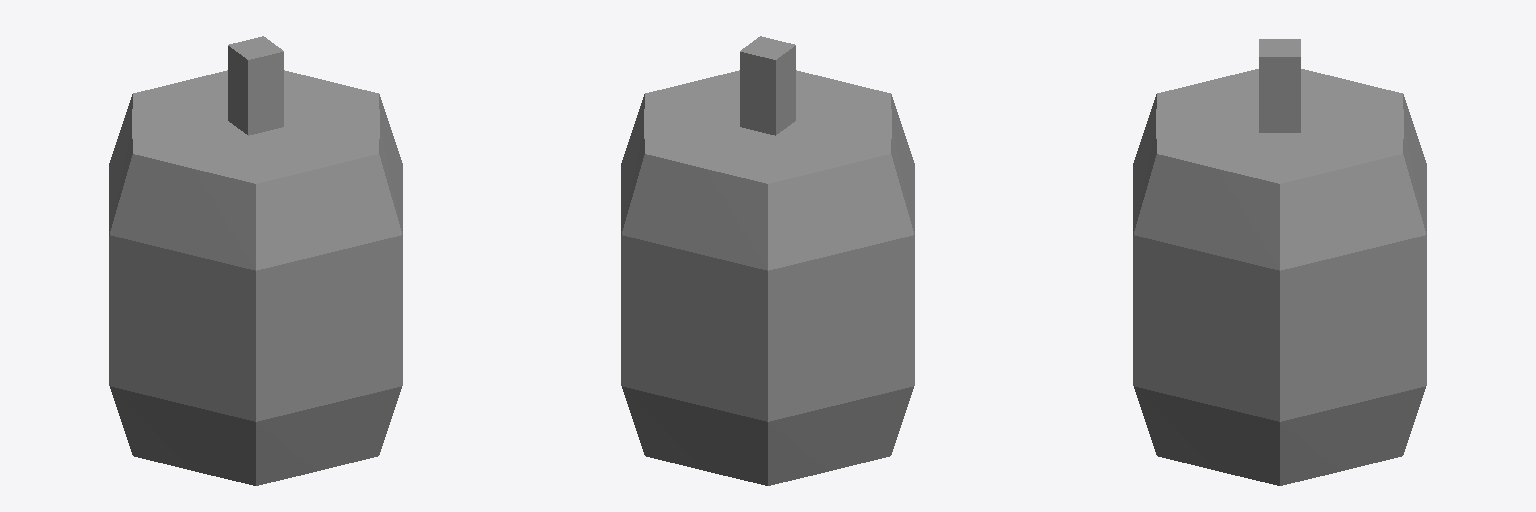
Rendered from pumpkin_01_01_c.obj.
3 renders of one model, left to right at view 1: azimuth 30°, elevation 25°; view 2: azimuth 150°, elevation 25°; view 3: azimuth 270°, elevation 25°, orthographic.
Parts seen in each view (by area): view 1: pumpkin_01_01_c; view 2: pumpkin_01_01_c; view 3: pumpkin_01_01_c.
Boxes of the visible parts, x1,y1,x2,y2 form: pumpkin_01_01_c: [109, 36, 402, 485]; pumpkin_01_01_c: [621, 36, 914, 485]; pumpkin_01_01_c: [1133, 39, 1426, 485].
Size of the model in its own units: 0.6737 by 0.913 by 0.5834.